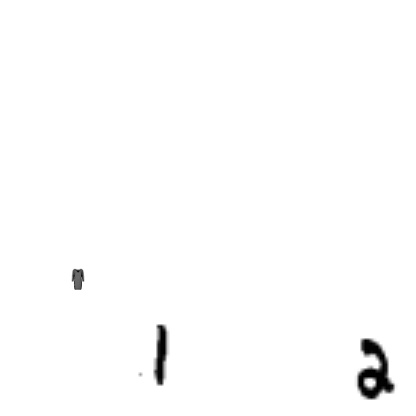1: (118, 310, 202, 394)
2: (331, 327, 415, 411)
Dress: (67, 268, 89, 290)
